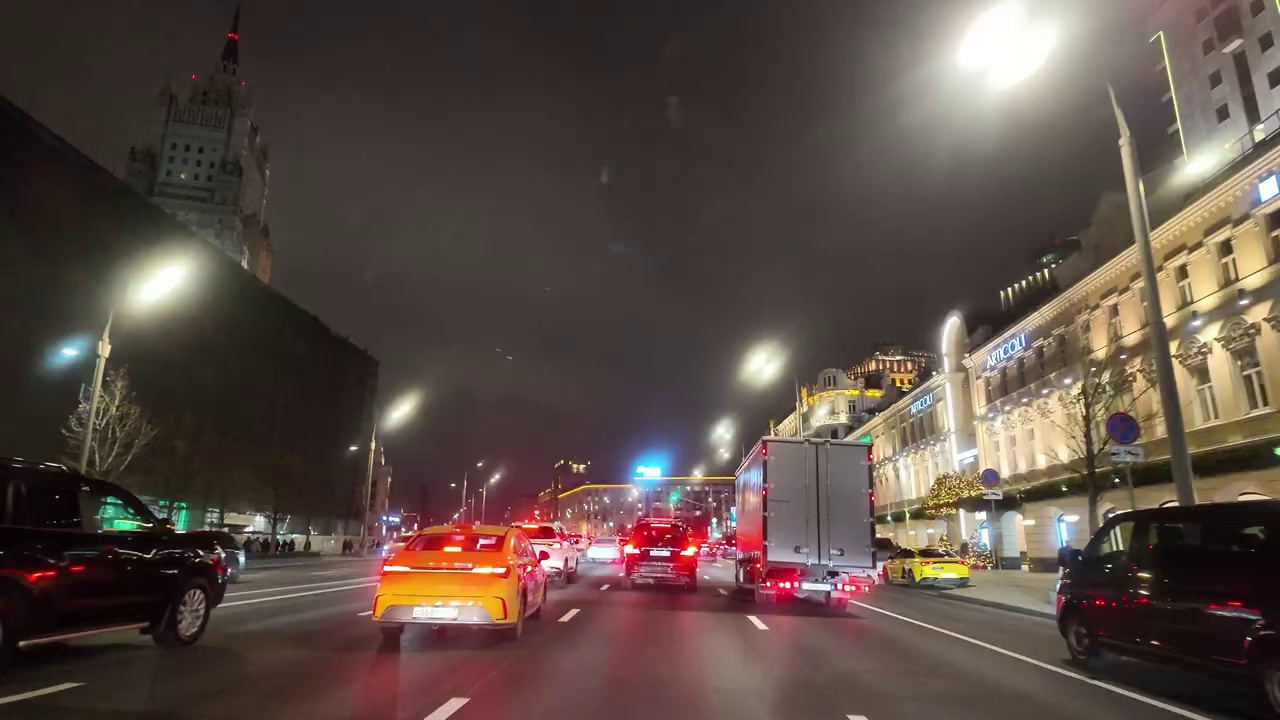acesa: (953, 8, 1084, 103), (122, 254, 200, 320), (737, 341, 788, 392), (382, 387, 423, 433), (705, 419, 738, 457)
